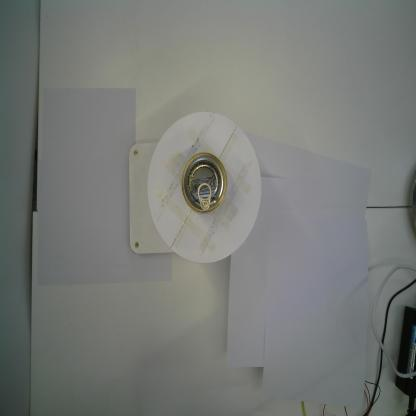Canned Food: (179, 148, 228, 216)
